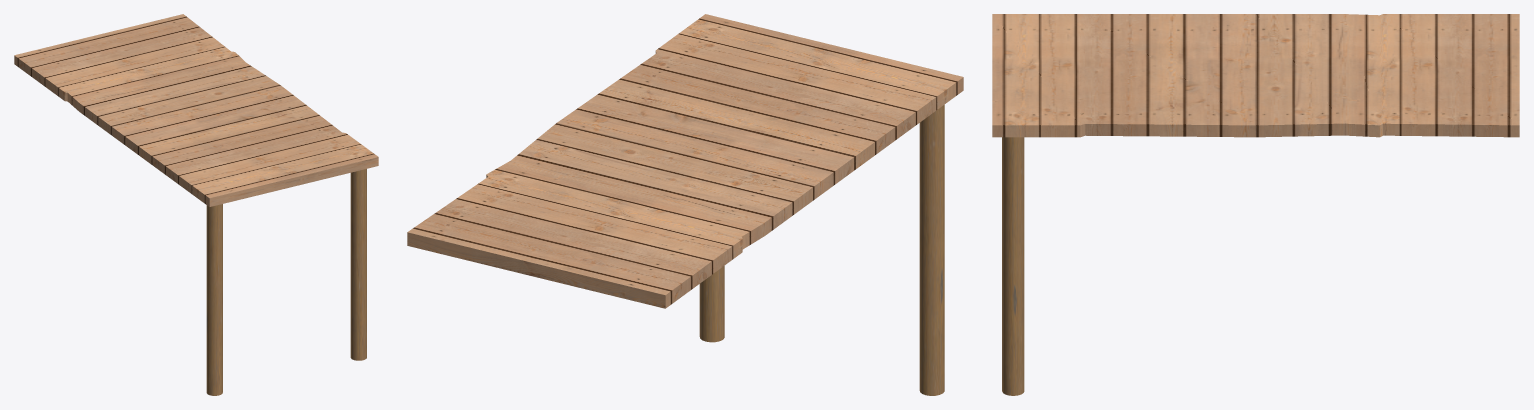
The model's file is WoodRoad3.fbx.
3 views of the same model, side by side, from view 1: azimuth 30°, elevation 25°; view 2: azimuth 150°, elevation 25°; view 3: azimuth 270°, elevation 25° (orthographic). The views are drawn at different scales.
Visible parts, largest first — view 1: WoodRoad3; view 2: WoodRoad3; view 3: WoodRoad3.
Part boxes in pixels (x1,y1,x2,y2): WoodRoad3: (14, 14, 378, 395); WoodRoad3: (407, 14, 963, 395); WoodRoad3: (992, 14, 1519, 395).
Size of the model in its own units: 200 by 229 by 400.
